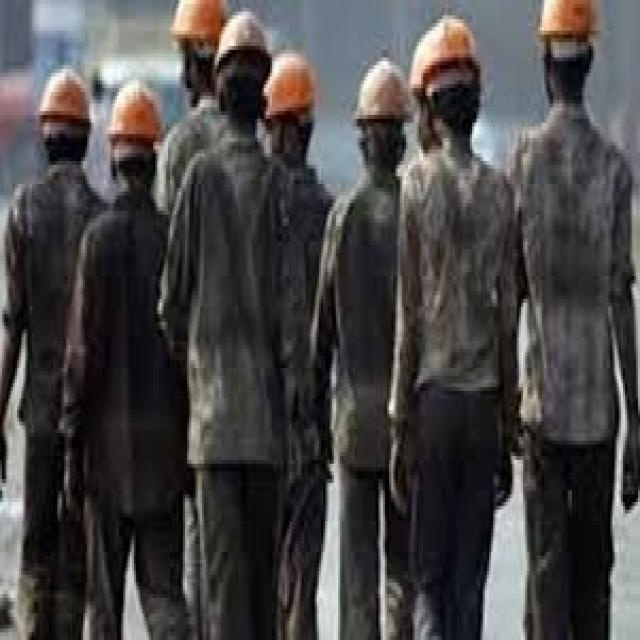Safety-Helmet: (408, 4, 494, 103), (523, 0, 619, 77), (258, 42, 328, 138), (348, 50, 416, 142), (28, 57, 100, 142), (102, 73, 166, 157), (208, 4, 278, 76)
